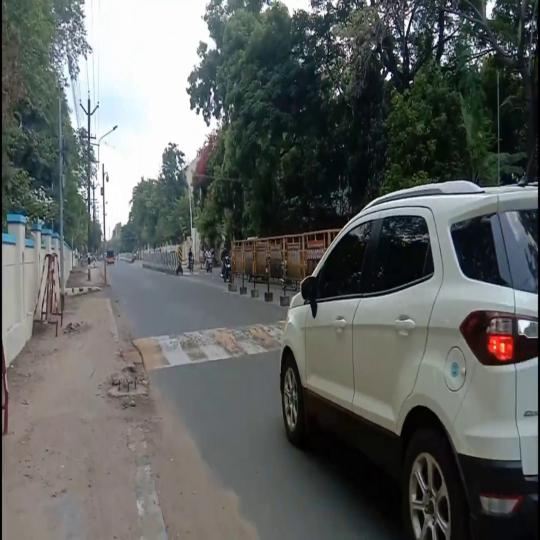Speed Bump: (132, 320, 281, 370)
